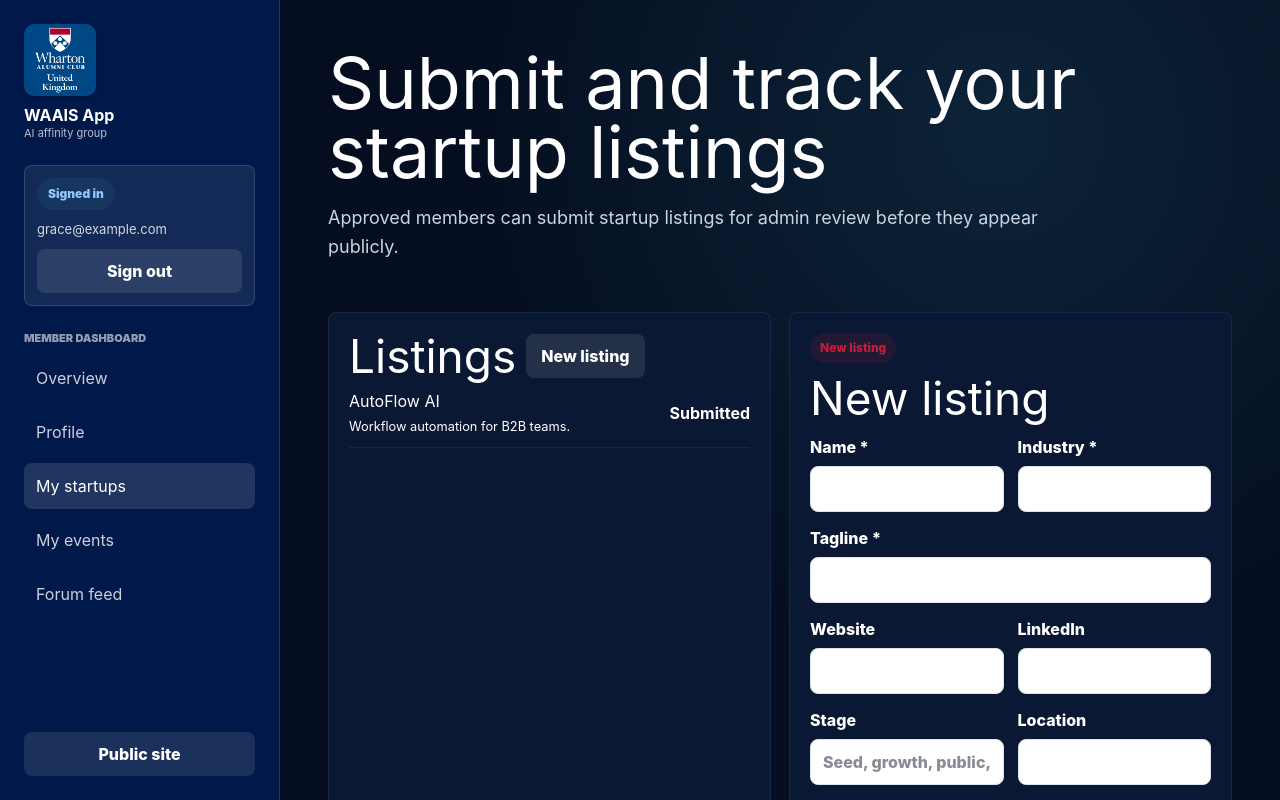
Test case: member dashboard live state › renders member-owned startup listings and selects one into the form
Step 1. Click the button with class "table-button" → (394, 401), box [349,379,750,448]
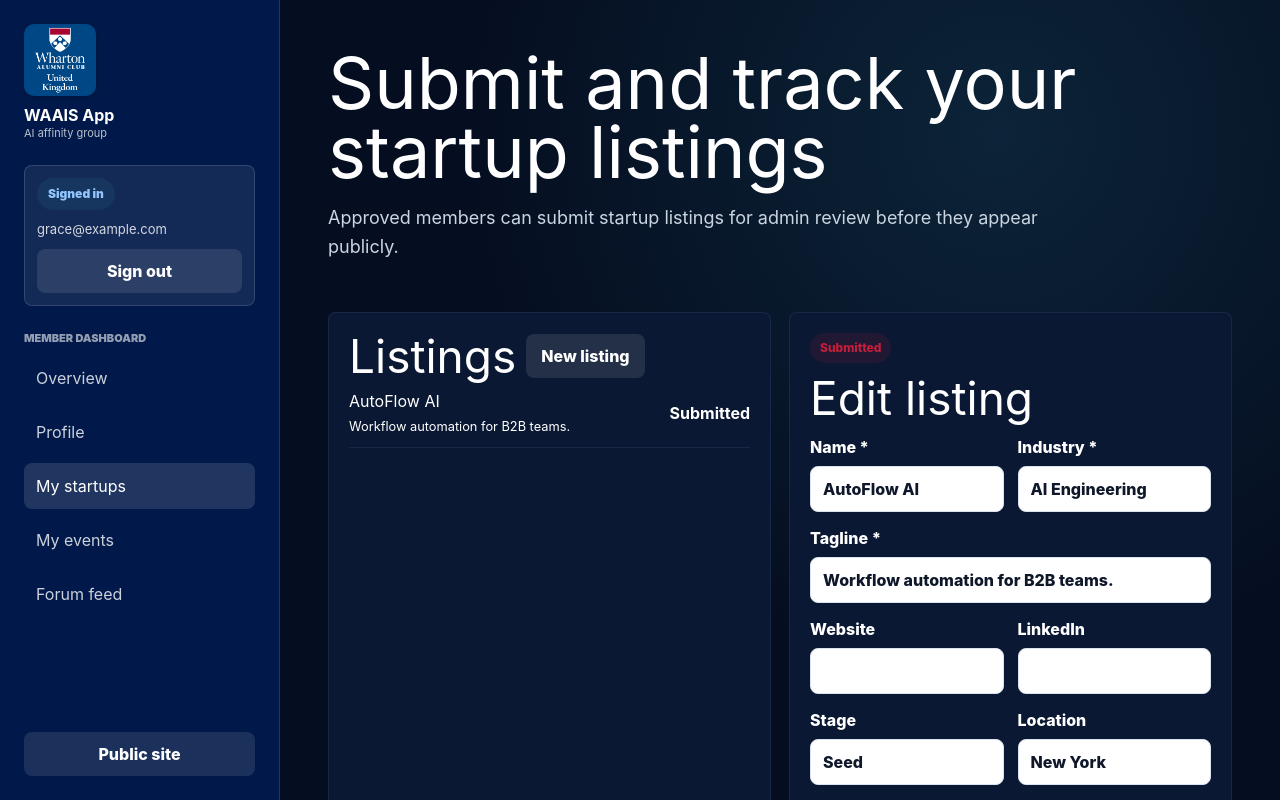
Expected: the field labelled "Name *" holds "AutoFlow AI", [810,466,1004,512]
Expected: the text "Edit listing" is shown, [810,375,1033,421]
